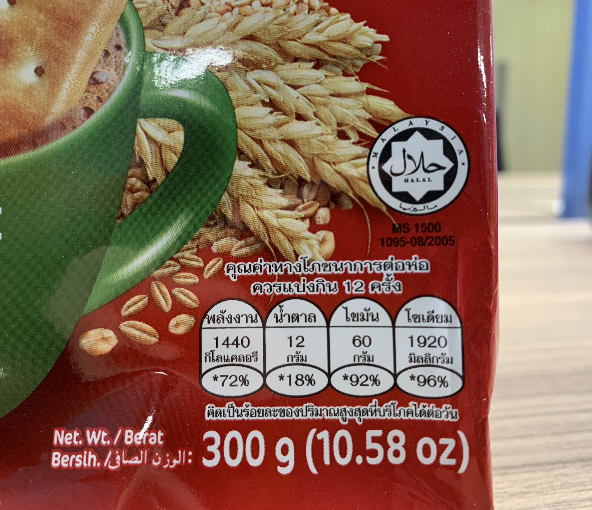halal: (381, 131, 448, 192)
